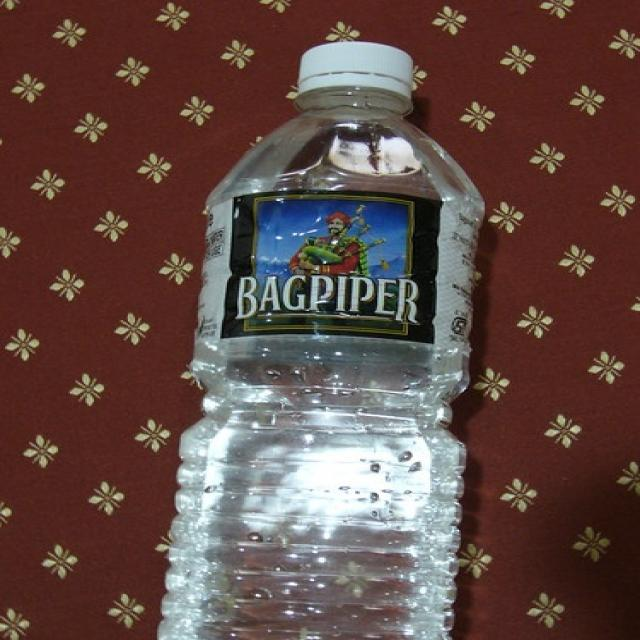plastic_bottle: (156, 42, 486, 640)
